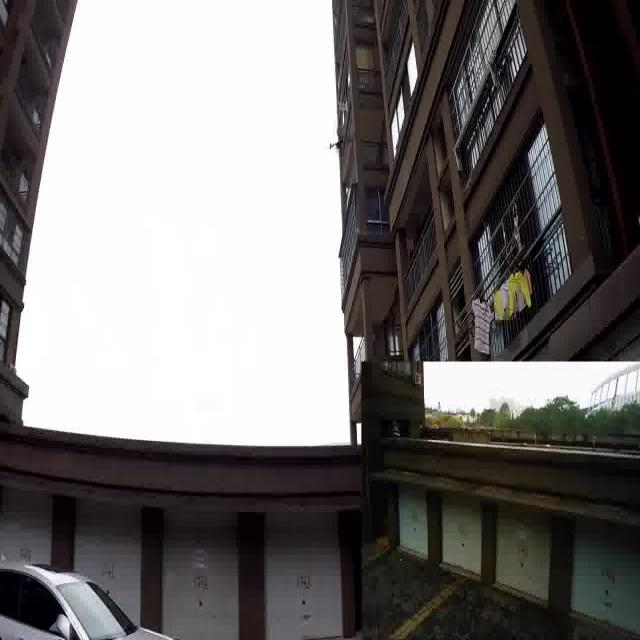drones: (326, 134, 347, 158)
